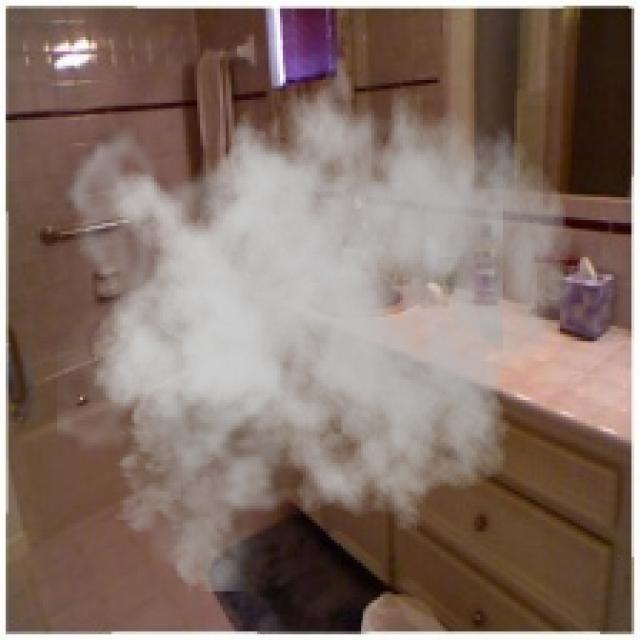Smoke: (57, 34, 574, 592)
